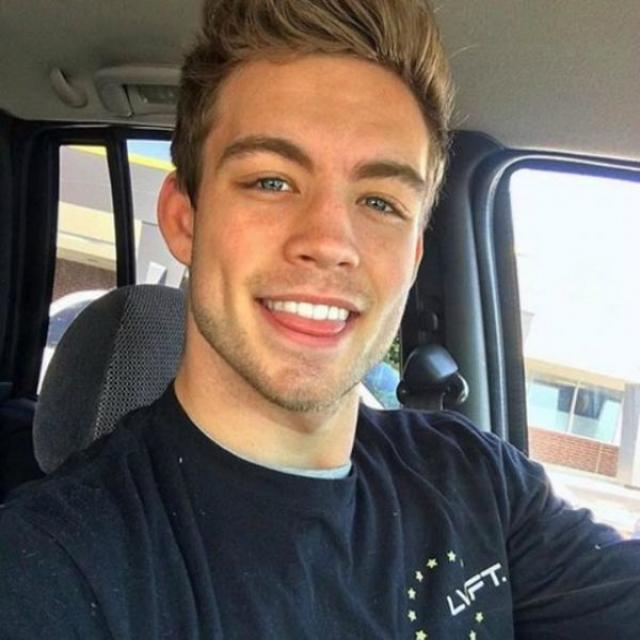earlobe: (156, 171, 193, 266)
